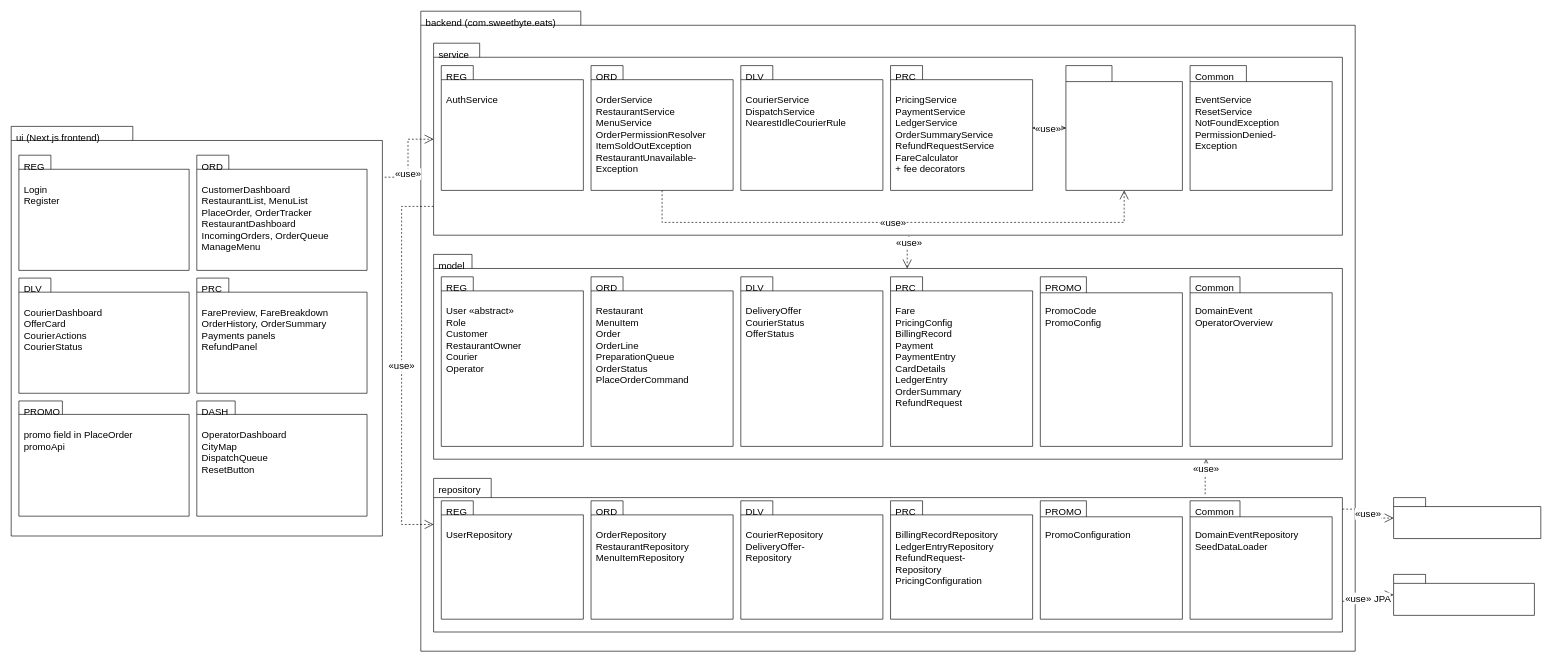
The diagram is 1552 pixels wide and 662 high, and some of its shapes have lost their labels. Here are the shapes that lost their labels. From the top down, the centre of each, then its label:
(1123,127): PROMO PromoService PromoServiceImpl PromoDiscountDecorator PromoRefusedException
(1467,518): application.properties
(1463,594): PostgreSQL (hosted on Supabase)
